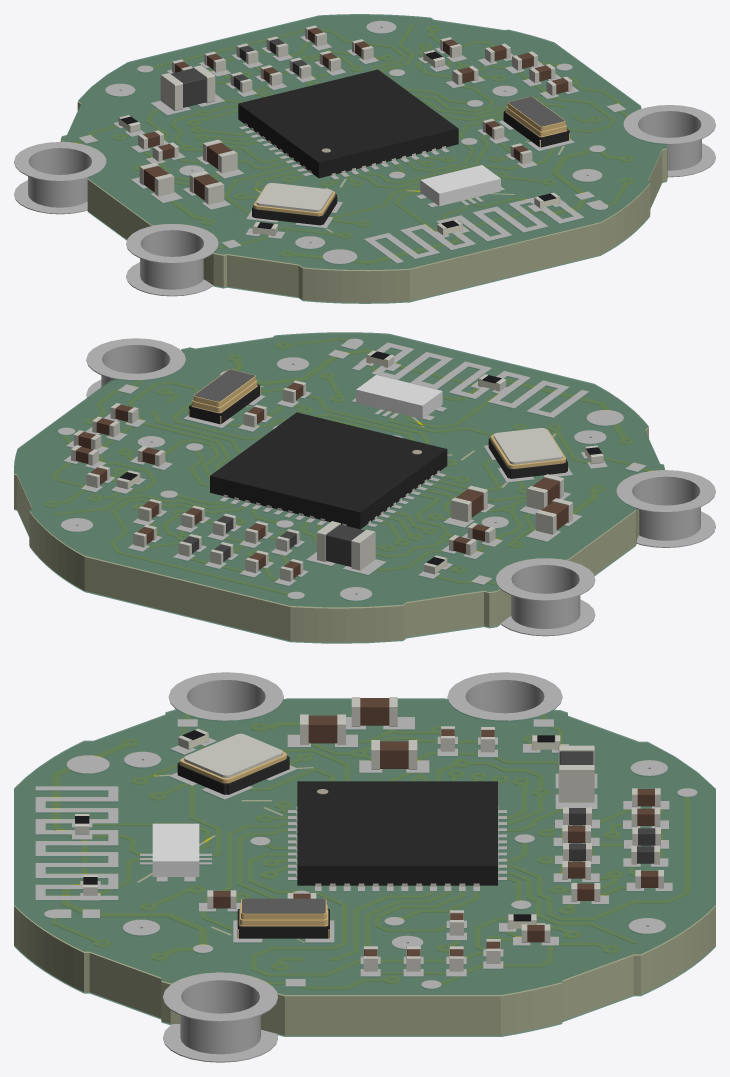
File: F91-Main_board_NF.glb
3 views of the same model, one above another, from view 1: azimuth 30°, elevation 25°; view 2: azimuth 150°, elevation 25°; view 3: azimuth 270°, elevation 25° (orthographic). The views are drawn at different scales.
Parts seen in each view (by area): view 1: =>[0:1:1:24], =>[0:1:1:26], =>[0:1:1:21], =>[0:1:1:19], =>[0:1:1:20], =>[0:1:1:9], =>[0:1:1:13] (×3), =>[0:1:1:15], =>[0:1:1:5], =>[0:1:1:17], =>[0:1:1:25]; view 2: =>[0:1:1:24], =>[0:1:1:26], =>[0:1:1:21], =>[0:1:1:19], =>[0:1:1:20], =>[0:1:1:9], =>[0:1:1:13] (×3), =>[0:1:1:15], =>[0:1:1:5], =>[0:1:1:17], =>[0:1:1:25]; view 3: =>[0:1:1:24], =>[0:1:1:26], =>[0:1:1:21], =>[0:1:1:19], =>[0:1:1:20], =>[0:1:1:9], =>[0:1:1:13] (×3), =>[0:1:1:15], =>[0:1:1:5], =>[0:1:1:17], =>[0:1:1:25].
Boxes of the visible parts, bbox=[...] form: =>[0:1:1:24]: bbox=[60, 14, 667, 269]; =>[0:1:1:26]: bbox=[60, 15, 667, 302]; =>[0:1:1:21]: bbox=[14, 21, 715, 296]; =>[0:1:1:19]: bbox=[238, 69, 458, 178]; =>[0:1:1:20]: bbox=[73, 24, 634, 263]; =>[0:1:1:9]: bbox=[252, 183, 337, 225]; =>[0:1:1:13] (×3): bbox=[139, 139, 237, 204]; =>[0:1:1:15]: bbox=[503, 96, 569, 147]; =>[0:1:1:5]: bbox=[420, 165, 500, 206]; =>[0:1:1:17]: bbox=[160, 65, 215, 110]; =>[0:1:1:25]: bbox=[87, 178, 667, 303]; =>[0:1:1:24]: bbox=[14, 332, 664, 607]; =>[0:1:1:26]: bbox=[14, 334, 664, 642]; =>[0:1:1:21]: bbox=[58, 338, 715, 636]; =>[0:1:1:19]: bbox=[210, 412, 447, 529]; =>[0:1:1:20]: bbox=[45, 338, 652, 594]; =>[0:1:1:9]: bbox=[488, 428, 567, 478]; =>[0:1:1:13] (×3): bbox=[450, 474, 572, 534]; =>[0:1:1:15]: bbox=[188, 369, 260, 424]; =>[0:1:1:5]: bbox=[356, 375, 442, 419]; =>[0:1:1:17]: bbox=[317, 521, 375, 570]; =>[0:1:1:25]: bbox=[14, 509, 636, 643]; =>[0:1:1:24]: bbox=[14, 698, 715, 994]; =>[0:1:1:26]: bbox=[14, 700, 715, 1035]; =>[0:1:1:21]: bbox=[35, 672, 697, 1062]; =>[0:1:1:19]: bbox=[296, 781, 498, 886]; =>[0:1:1:20]: bbox=[52, 714, 689, 988]; =>[0:1:1:9]: bbox=[177, 733, 289, 794]; =>[0:1:1:13] (×3): bbox=[300, 697, 417, 769]; =>[0:1:1:15]: bbox=[237, 898, 329, 938]; =>[0:1:1:5]: bbox=[152, 823, 199, 876]; =>[0:1:1:17]: bbox=[558, 745, 594, 802]; =>[0:1:1:25]: bbox=[14, 945, 715, 1036].
Bounding box in the file's own units: 0.0287 × 0.00328 × 0.0244.
